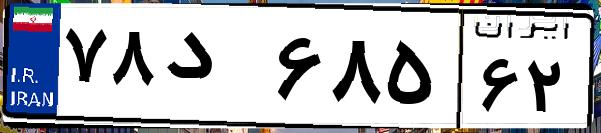2: (525, 38, 570, 115)
5: (385, 28, 445, 110)
6: (270, 28, 330, 110), (475, 38, 525, 113)
7: (57, 26, 110, 100)
8: (330, 28, 385, 110), (110, 28, 158, 98)
د: (158, 20, 270, 120)
